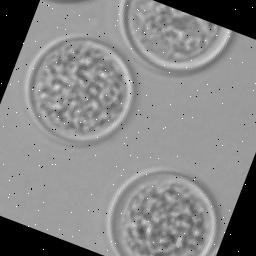picoshell: (24, 33, 134, 145), (106, 168, 218, 256), (118, 0, 235, 76)
